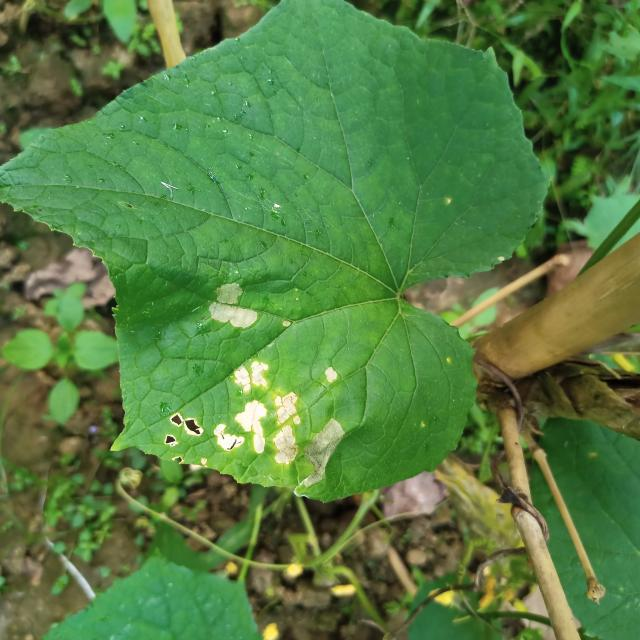disease_cucumber: (161, 355, 350, 488), (206, 276, 263, 337)
